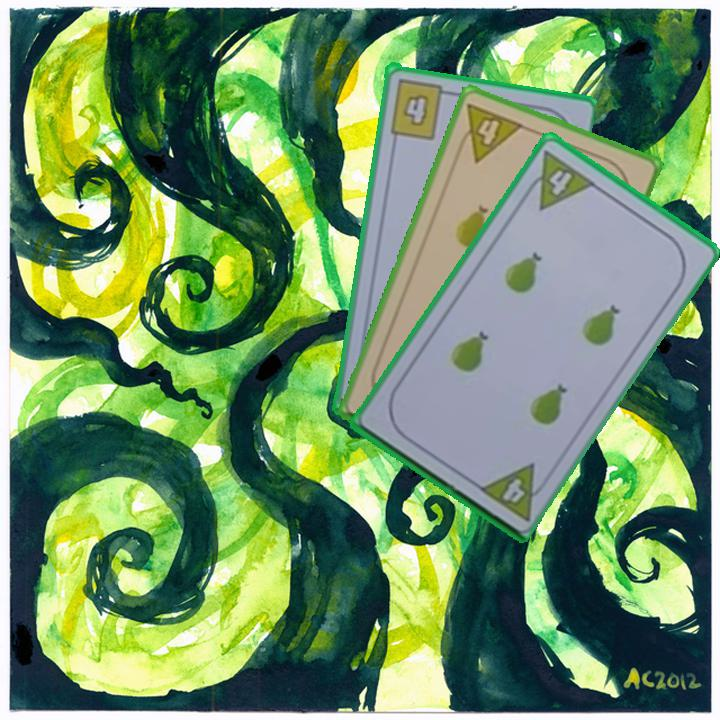4b: (386, 74, 455, 141)
4p: (518, 146, 598, 213), (474, 459, 553, 523), (451, 99, 526, 165)
